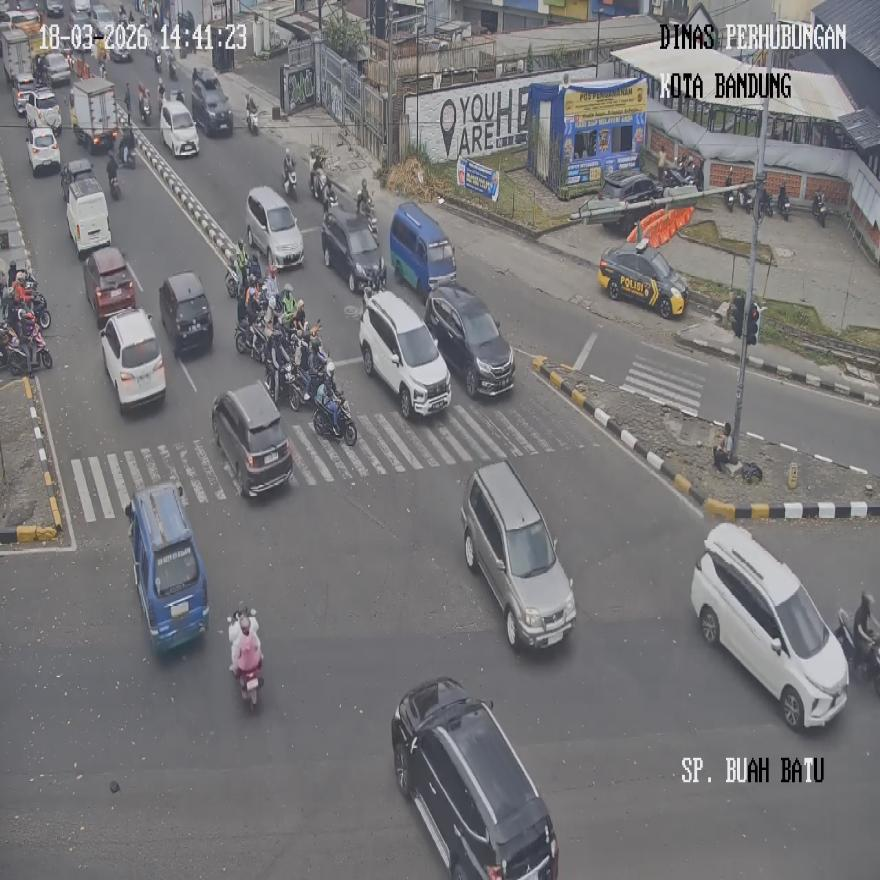Motor: (390, 677, 558, 879), (690, 523, 851, 730), (461, 460, 576, 650), (124, 482, 208, 650), (359, 290, 452, 419), (423, 281, 515, 397), (212, 380, 294, 496), (598, 236, 689, 319), (100, 306, 165, 410), (390, 200, 456, 298), (321, 209, 386, 296), (245, 185, 304, 270), (62, 159, 112, 255), (160, 270, 213, 356), (84, 246, 135, 328), (191, 64, 234, 136)
Truk: (835, 608, 880, 696), (228, 608, 264, 712), (312, 390, 357, 445), (7, 328, 51, 375), (235, 319, 266, 362), (357, 193, 379, 241), (226, 254, 248, 297), (118, 128, 135, 168), (282, 158, 298, 199), (107, 155, 121, 199), (724, 166, 737, 212), (309, 165, 326, 200), (322, 182, 336, 221), (812, 190, 826, 228), (741, 182, 756, 213), (138, 86, 150, 124), (760, 188, 775, 218), (777, 186, 790, 220), (246, 101, 259, 134), (167, 48, 178, 80), (155, 44, 162, 73)
